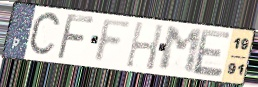C: (26, 10, 63, 60)
E: (191, 28, 232, 79)
F: (91, 17, 135, 65), (55, 12, 95, 62)
H: (123, 20, 165, 72)
M: (158, 25, 204, 75)
